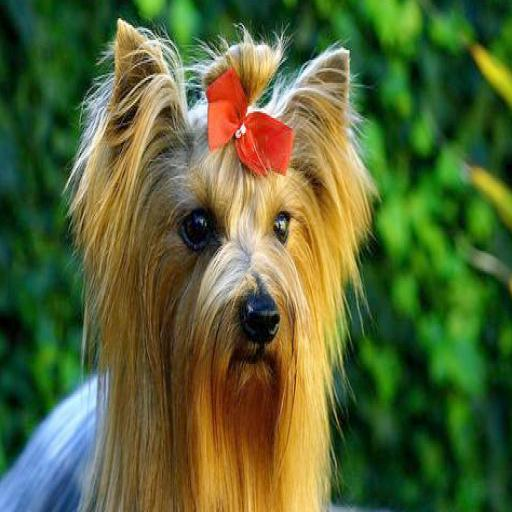dog_face: (106, 22, 348, 377)
